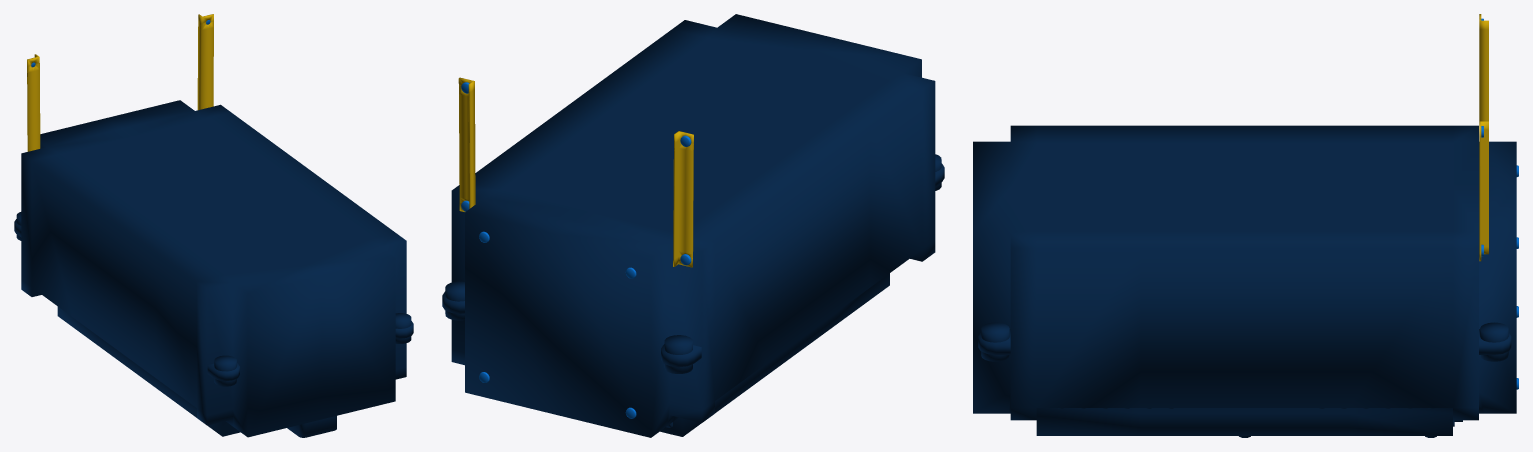
File: Generator.fbx
3 views of the same model, side by side, from view 1: azimuth 30°, elevation 25°; view 2: azimuth 150°, elevation 25°; view 3: azimuth 270°, elevation 25° (orthographic). The views are drawn at different scales.
Visible parts, largest first — view 1: Generator, Mountings.017, Mountings; view 2: Generator, Mountings, Mountings.017; view 3: Generator, Mountings.017, Mountings.
Part boxes in pixels (box(x1,y1,x2,y2)): Generator: box(14, 100, 413, 437); Mountings.017: box(197, 14, 213, 110); Mountings: box(27, 54, 40, 151); Generator: box(442, 14, 944, 437); Mountings: box(673, 131, 693, 267); Mountings.017: box(458, 77, 475, 211); Generator: box(973, 125, 1518, 437); Mountings.017: box(1479, 121, 1488, 261); Mountings: box(1479, 14, 1488, 120).
Bounding box in the file's own units: 39.55 × 49.38 × 74.37.
